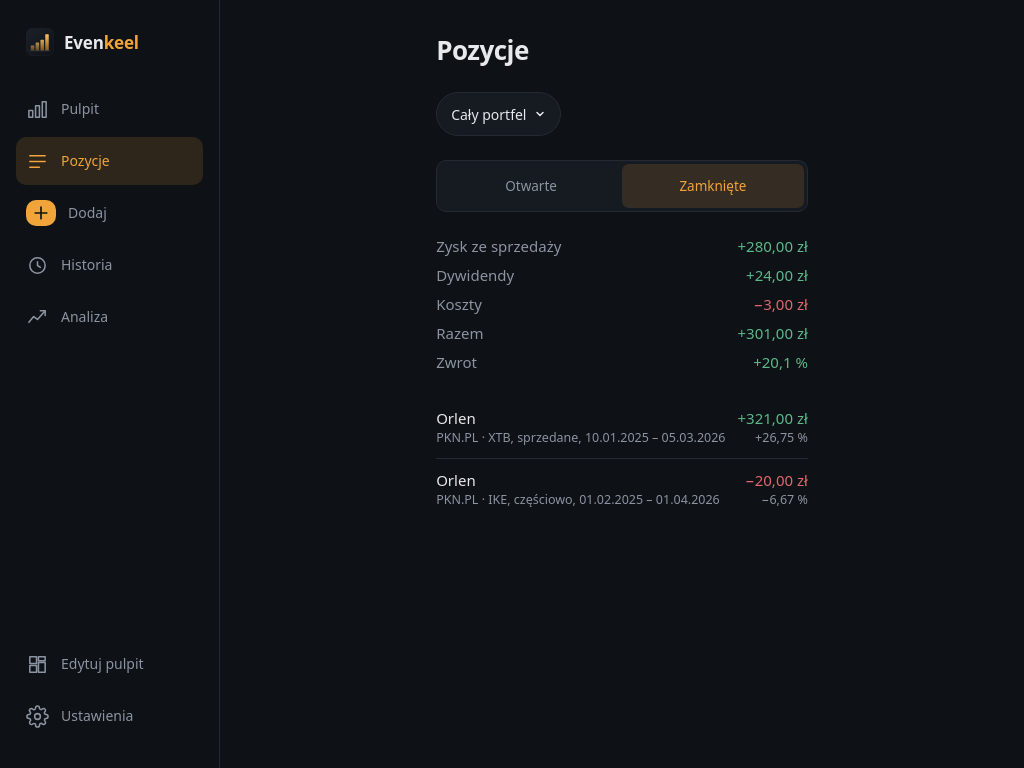
Test case: closed investments › shows the sales of an investment when its row is opened
The image size is (1024, 768).
Click the 4th button: [622, 428] box [436, 397, 808, 458]
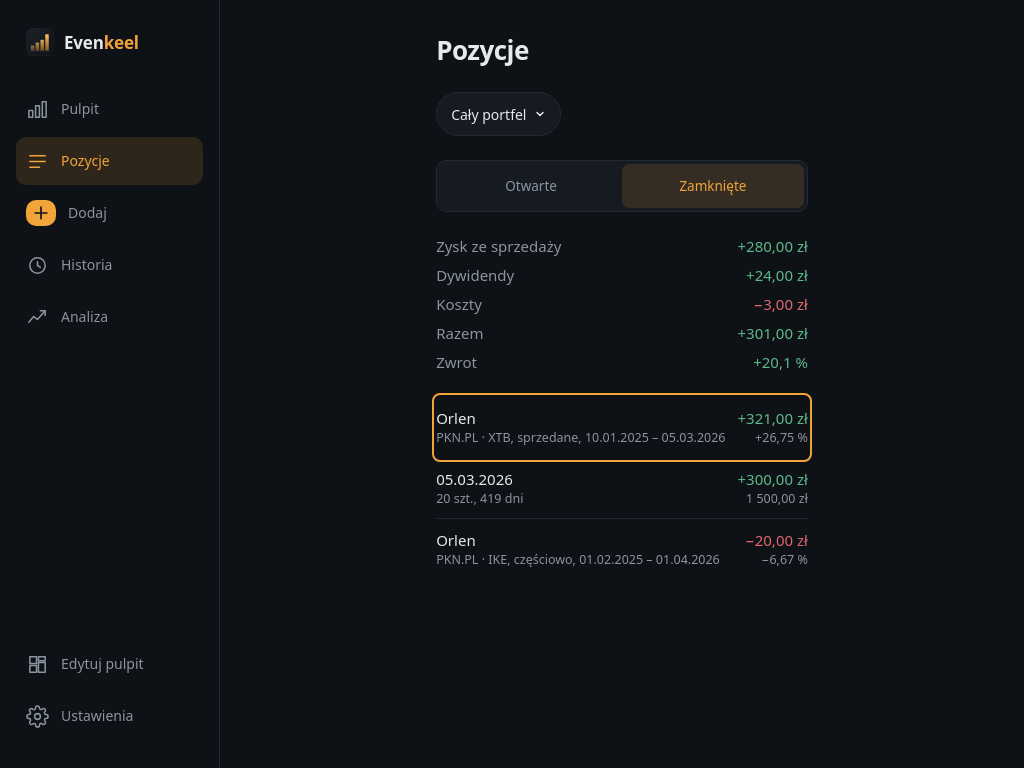
Expected: the text "05.03.2026" is shown, [436, 469, 513, 489]
Expected: the text "20 szt., 419 dni" is shown, [436, 490, 523, 507]
